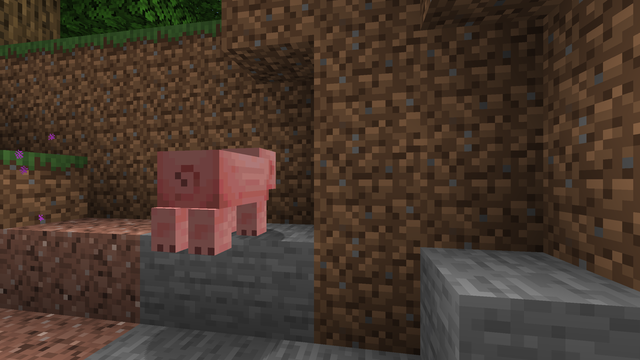cochons: (149, 147, 276, 252)
